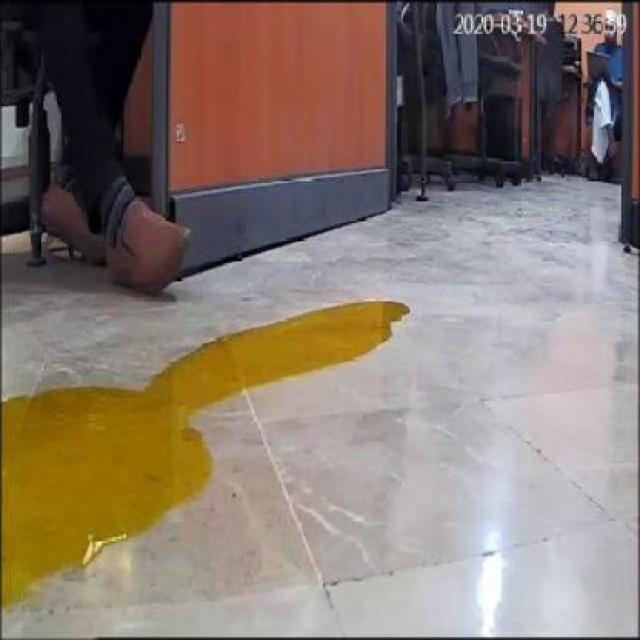spillage: (1, 301, 408, 611)
